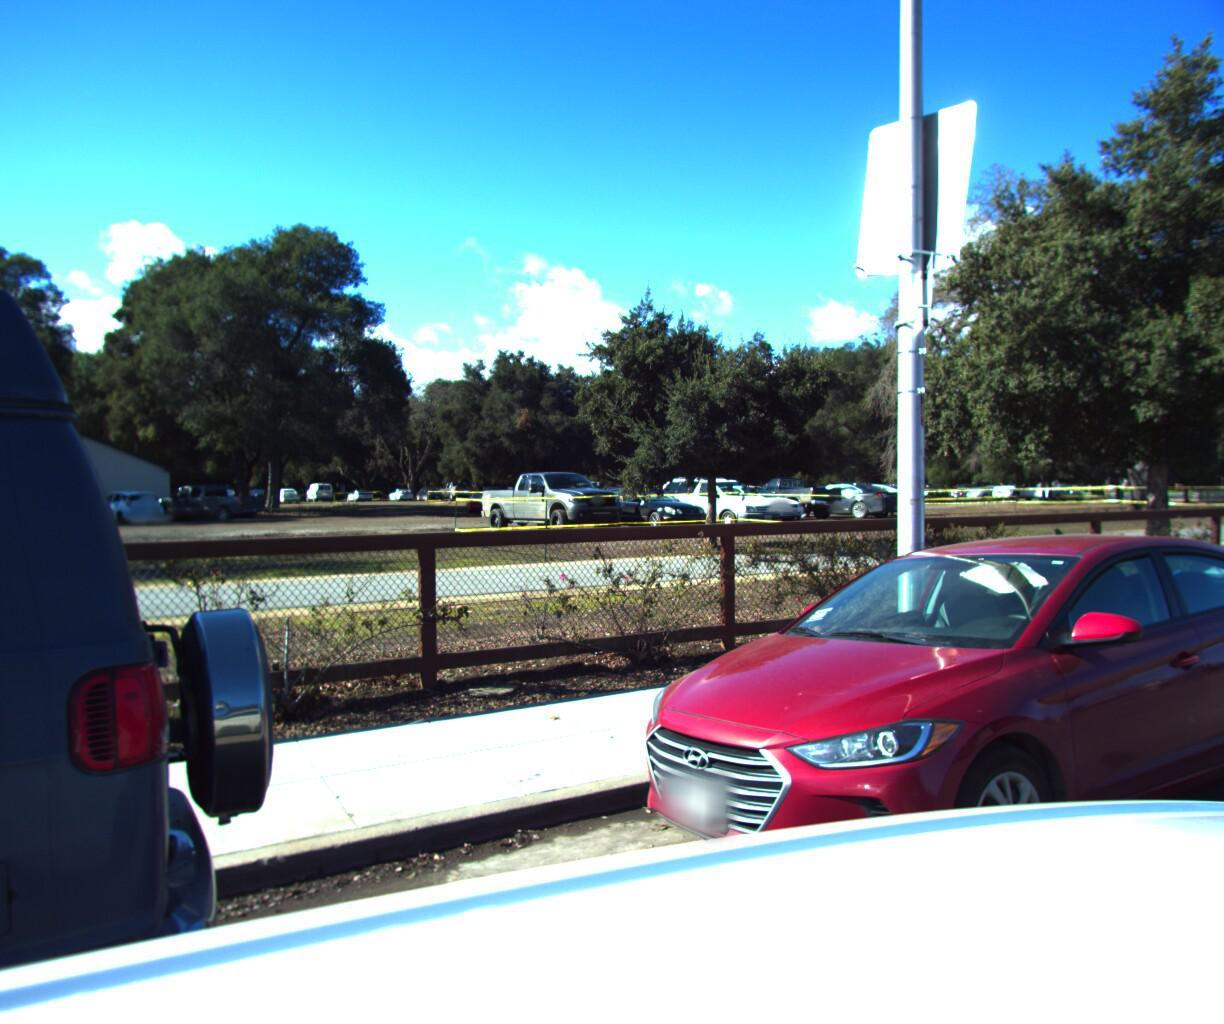car: (558, 515, 1224, 1024), (1138, 459, 1224, 748)
